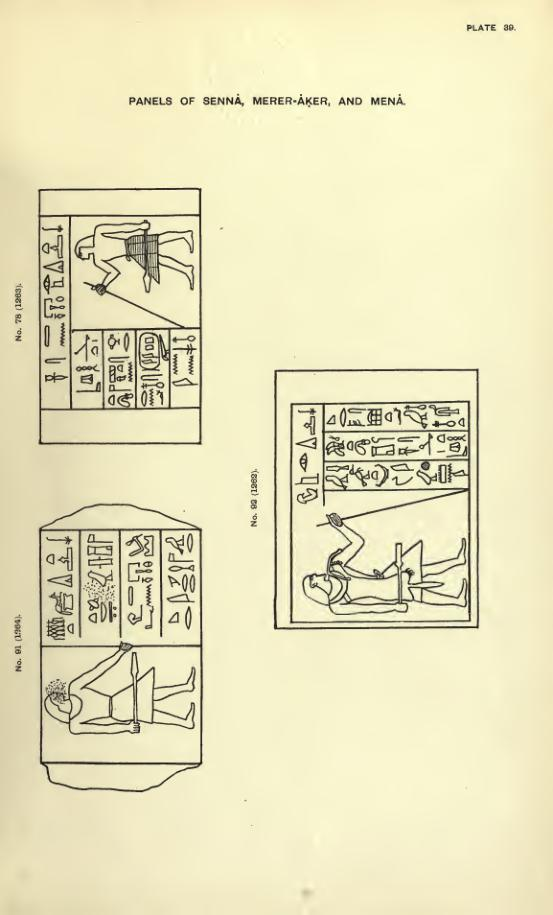circle: (138, 332, 162, 373)
